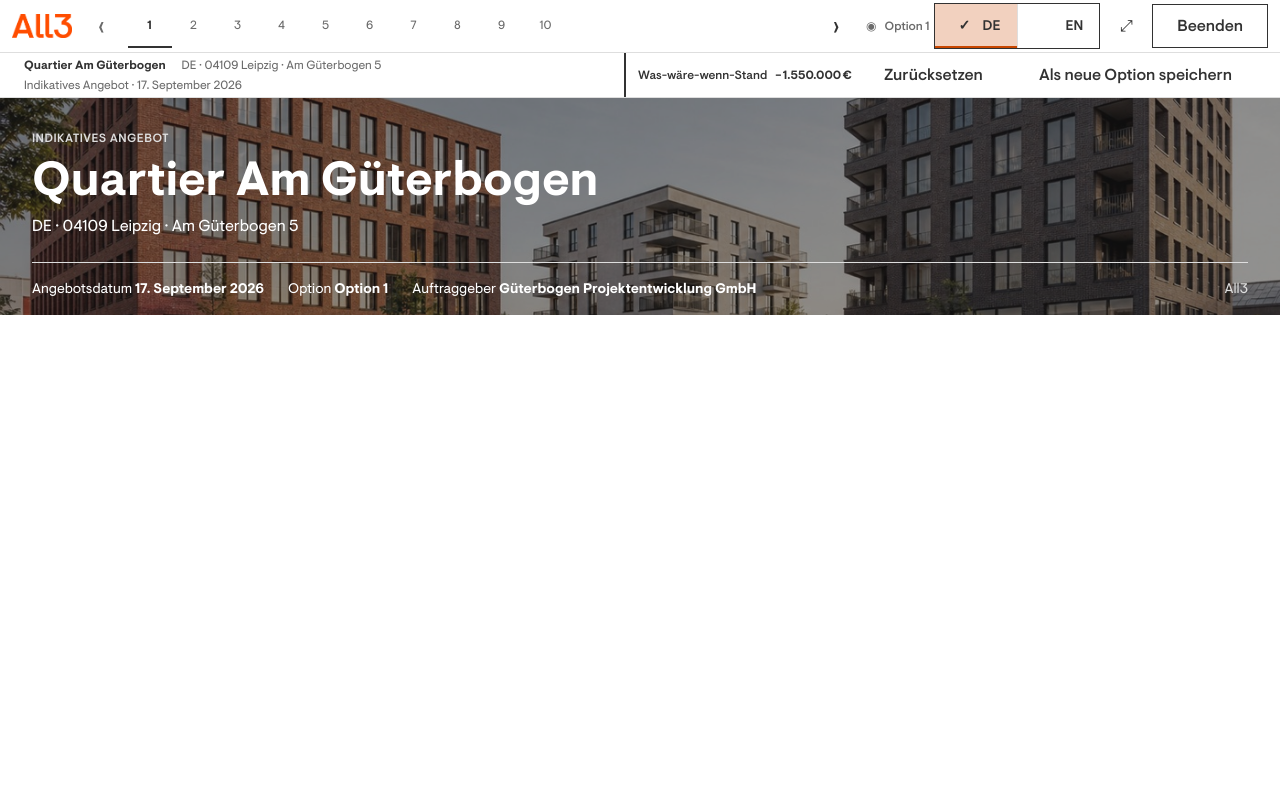
Test: VR3-05 · one scenario change reads as one › the revert dialog and the save summary agree with the store about a single change
The width and height of the screenshot is (1280, 800).
Expected: the text "Was-wäre-wenn-Stand" is shown, left=638, top=67, right=767, bottom=83
Click the button "Zurücksetzen".
click(933, 75)  # box left=860, top=53, right=1007, bottom=97
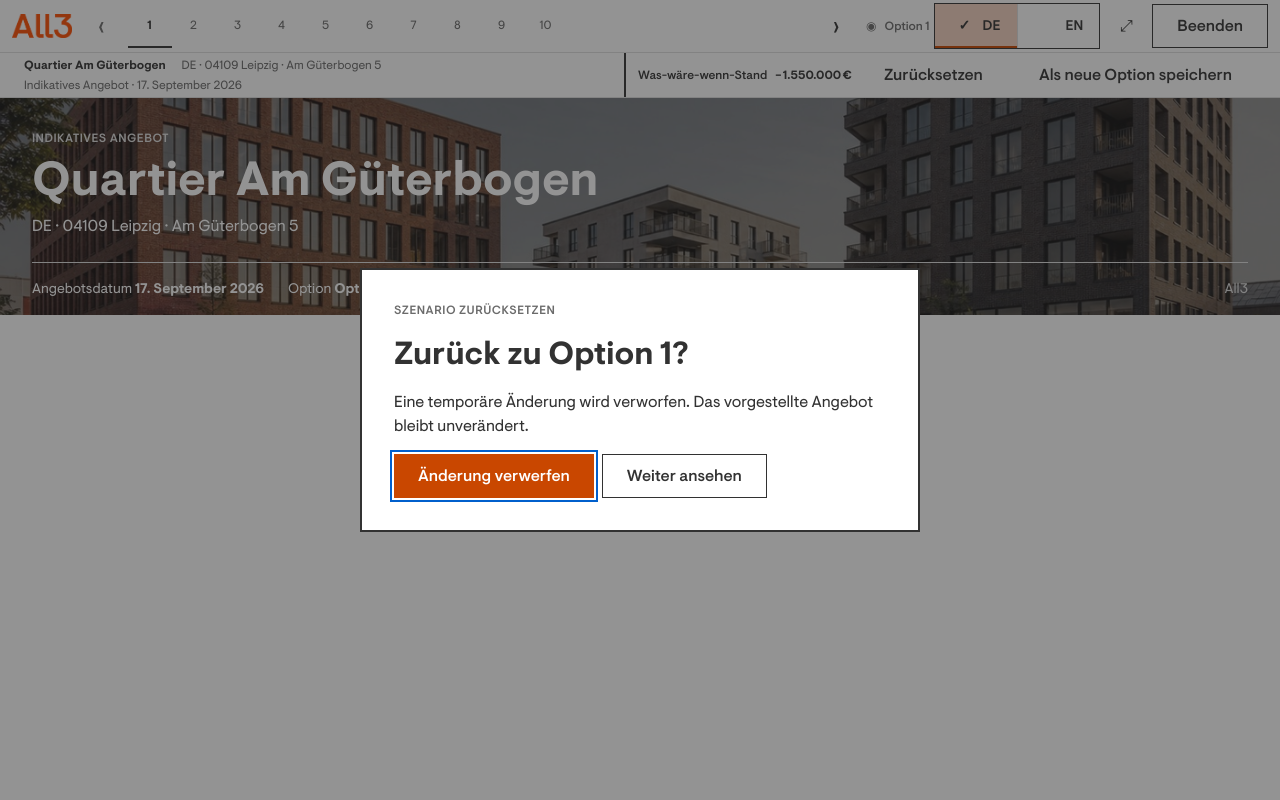
Expected: the dialog does not show "1 temporäre Änderungen", left=360, top=268, right=920, bottom=532
Result: the dialog shows "Eine temporäre Änderung wird verworfen. Das vorgestellte Angebot bleibt unverändert." at left=394, top=391, right=873, bottom=437
Result: the button "Änderung verwerfen" is shown at left=394, top=454, right=594, bottom=498
Click the button "Weiter ansehen".
click(684, 476)  # box left=602, top=454, right=767, bottom=498
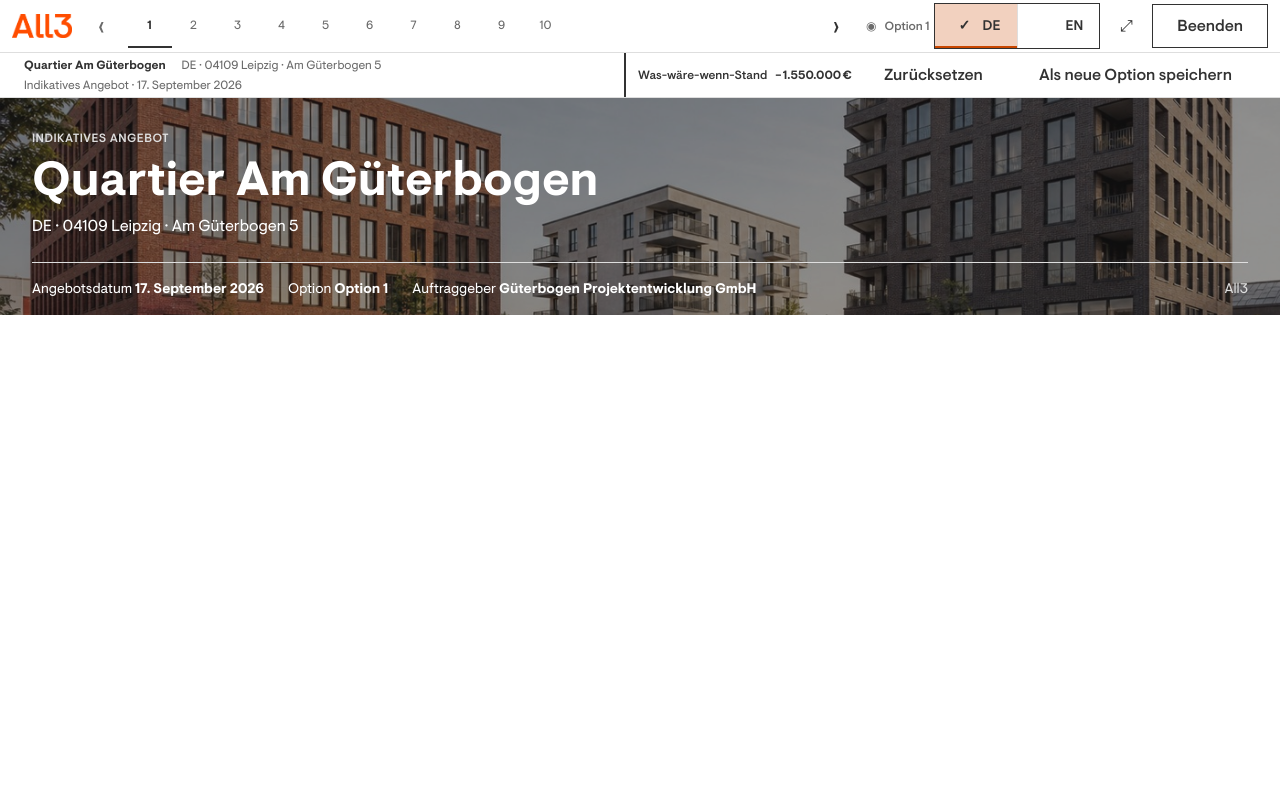
Result: the dialog is gone
Click the button "Als neue Option speichern".
click(1135, 75)  # box left=1015, top=53, right=1256, bottom=97
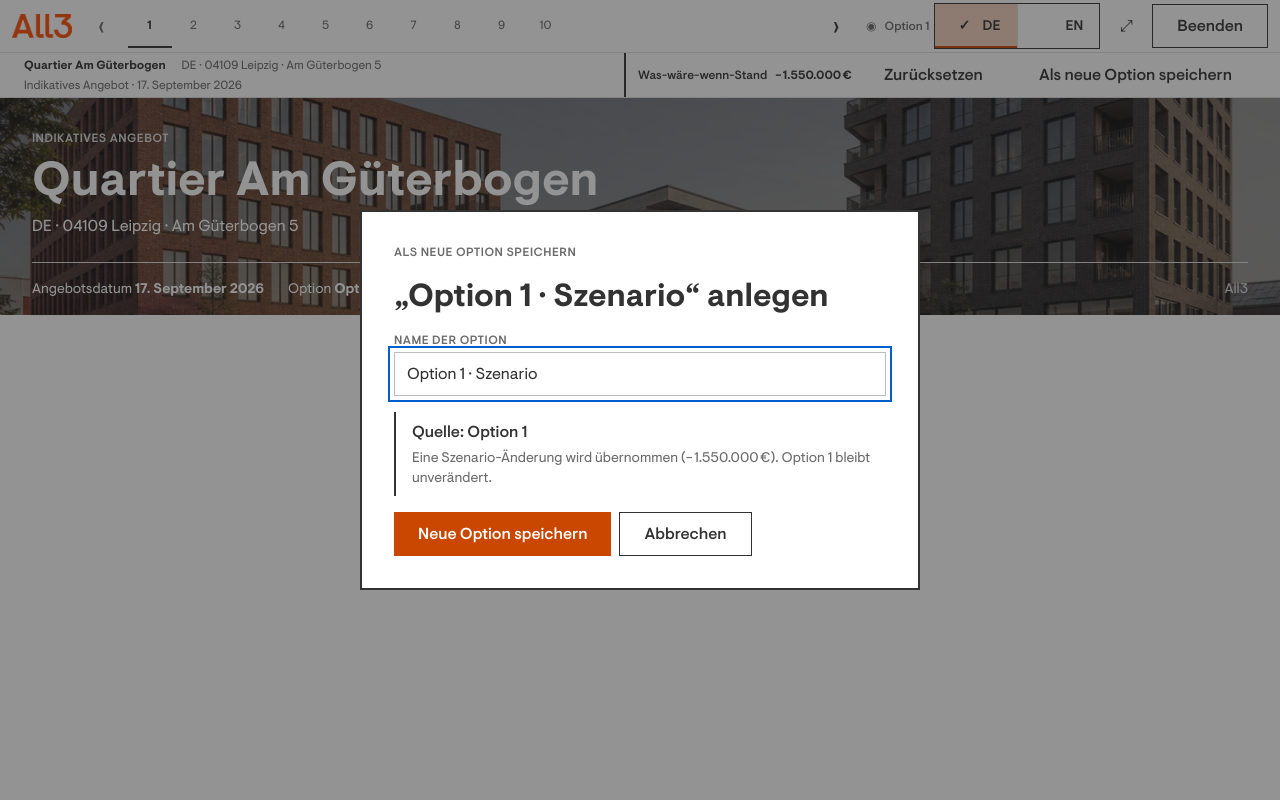
Expected: the dialog does not show "1 Szenario-Änderungen", left=360, top=210, right=920, bottom=590
Result: the dialog shows "Eine Szenario-Änderung wird übernommen" at left=412, top=448, right=870, bottom=487
